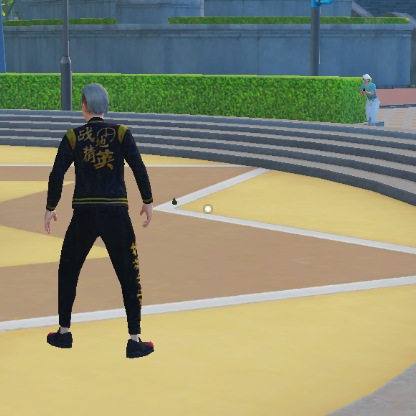ren: (37, 82, 157, 359), (359, 71, 380, 126)
tou: (76, 83, 113, 123), (360, 74, 372, 87)
